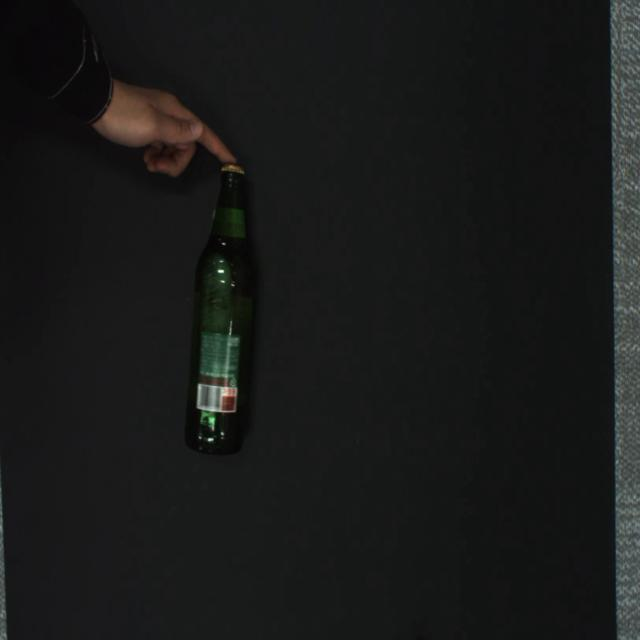beer-bottle: (184, 163, 257, 456)
